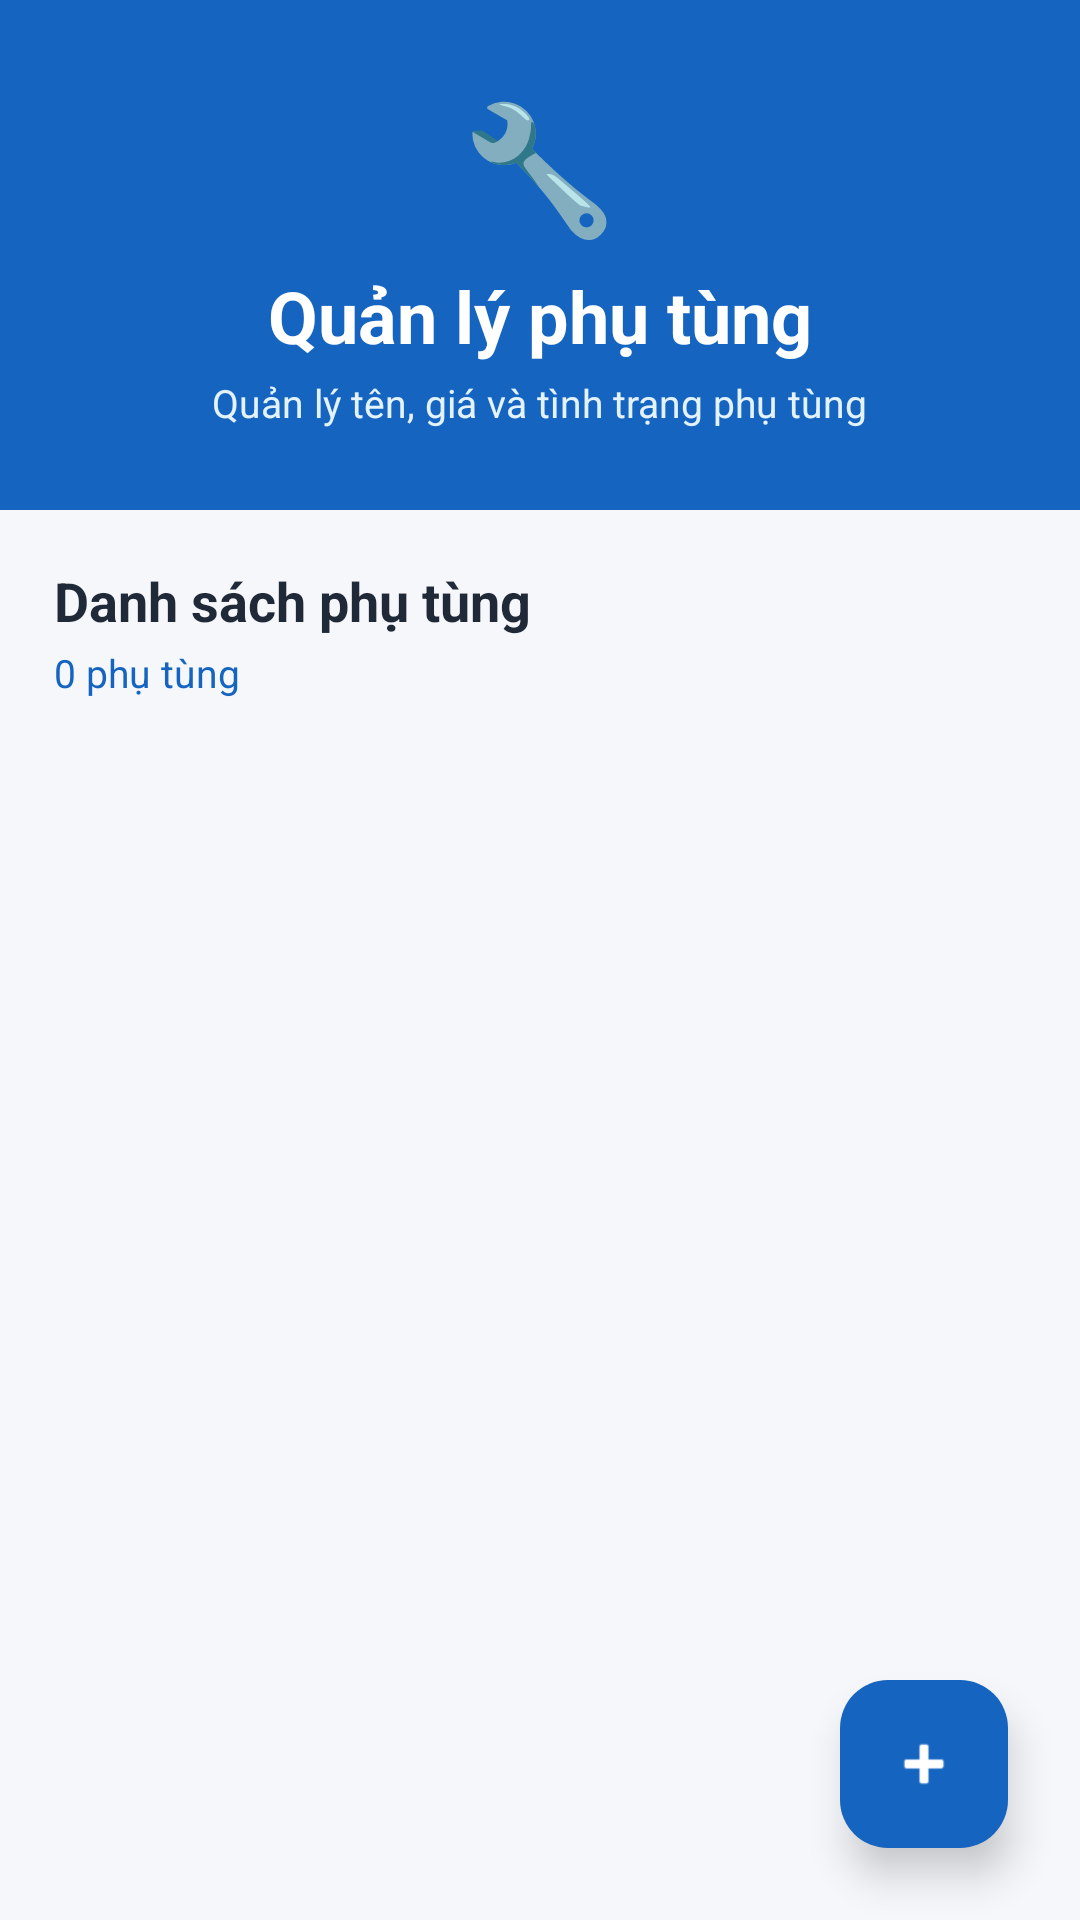

Locate icon controls on the screen. Image size 1080x1920, boxes as rect(x1, y1, x2, y2).
Thêm phụ tùng: rect(840, 1680, 1008, 1848)
